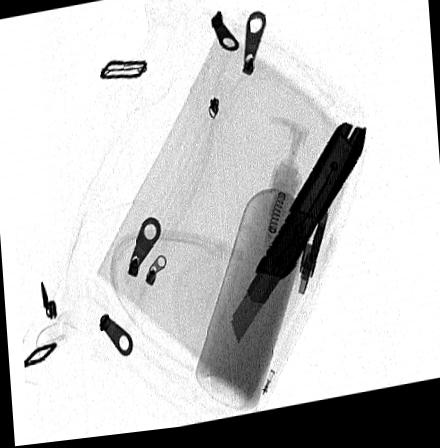Knife: (227, 129, 366, 351)
